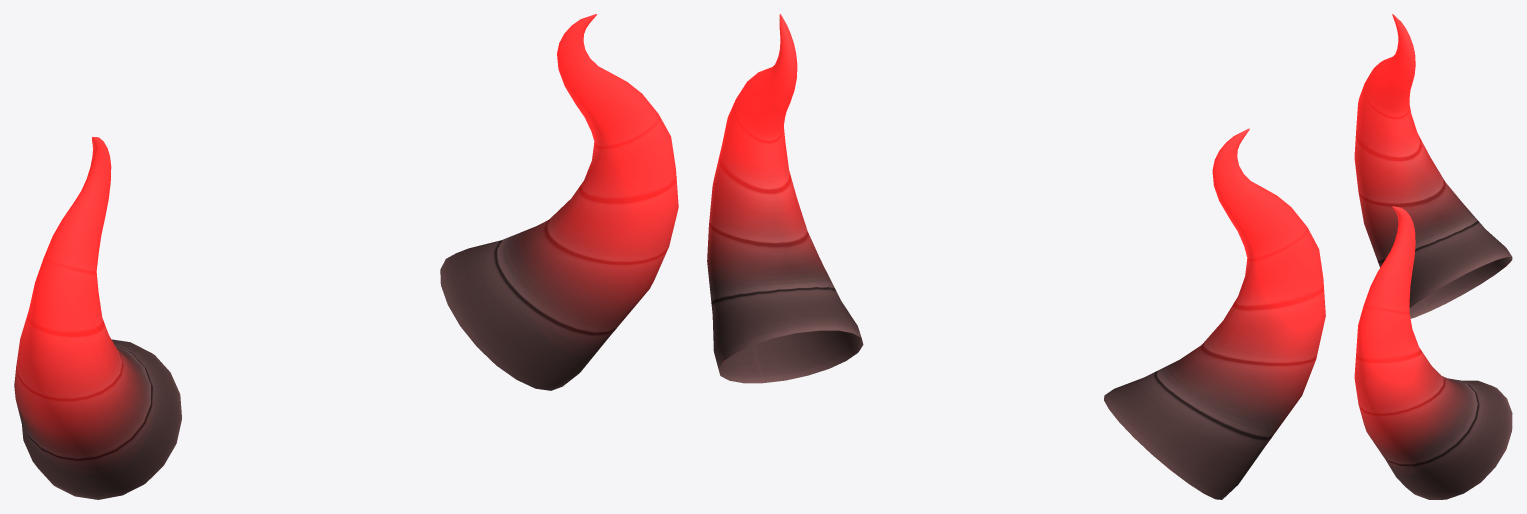
Rendered from Devil Horns.fbx.
The picture shows the model from 3 angles, left to right: view 1: azimuth 30°, elevation 25°; view 2: azimuth 150°, elevation 25°; view 3: azimuth 270°, elevation 25°; orthographic projection. The views are drawn at different scales.
Parts seen in each view (by area): view 1: Devil-horns; view 2: Devil-horns; view 3: Devil-horns.
Part boxes in pixels (bbox=[...]): Devil-horns: bbox=[14, 14, 678, 499]; Devil-horns: bbox=[707, 14, 1325, 499]; Devil-horns: bbox=[1354, 14, 1512, 499].
Bounding box in the file's own units: 49.07 × 27.42 × 13.27.
